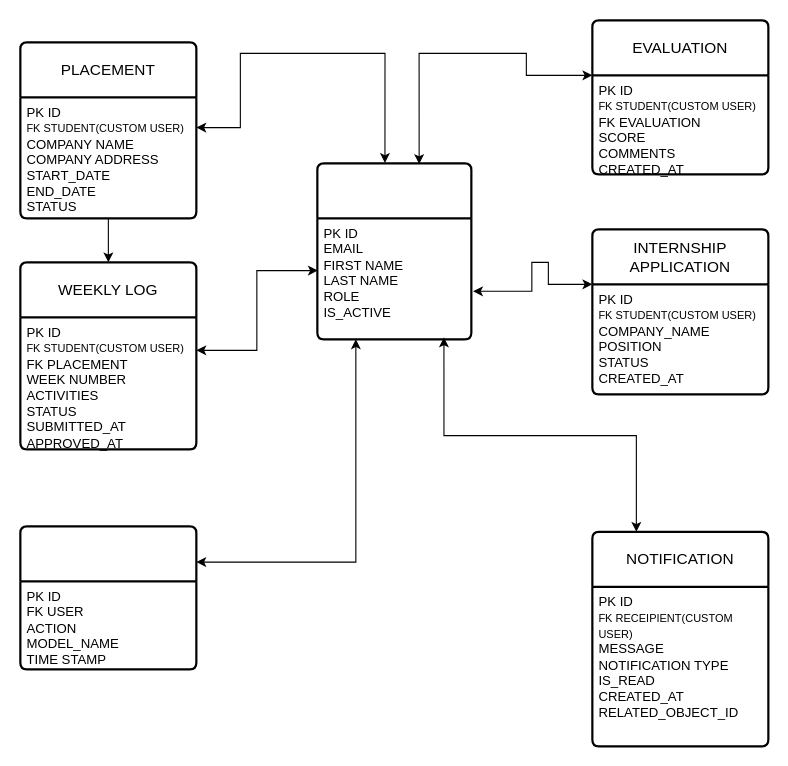
Some shapes in this 788 by 766 pixel diagram are drawn without their labels. The box of each missing label's shape, as (x1, y1, x2, y2) in pixels:
AUDIT LOG: (19, 525, 197, 670)
CUSTOM USER: (316, 162, 472, 340)
